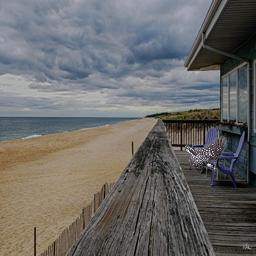Woodpecker: (185, 136, 228, 172)
